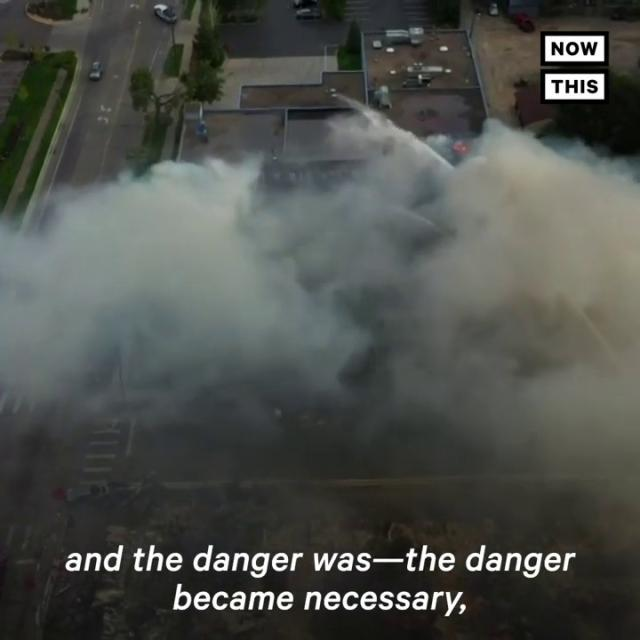Smoke: (0, 98, 640, 443)
